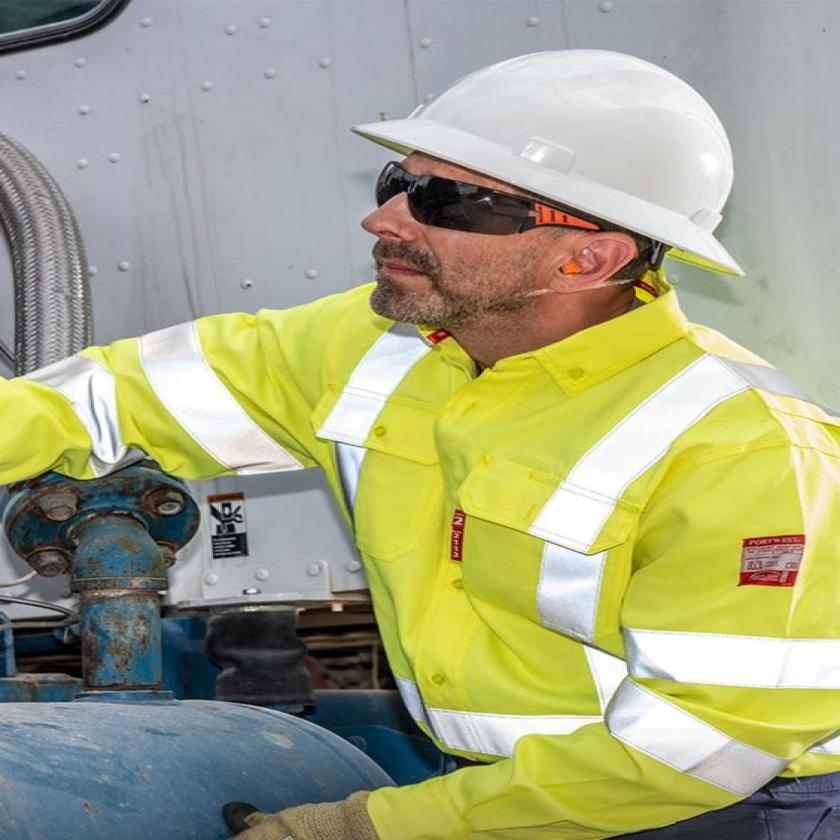Con_casco: (302, 32, 798, 348)
